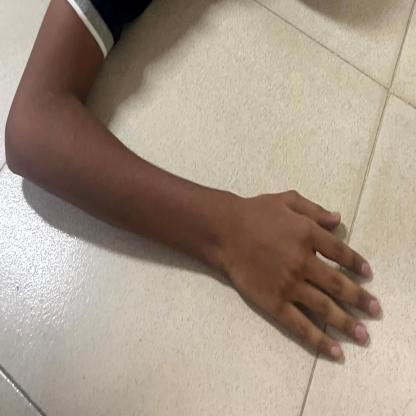hand: (18, 31, 392, 380)
